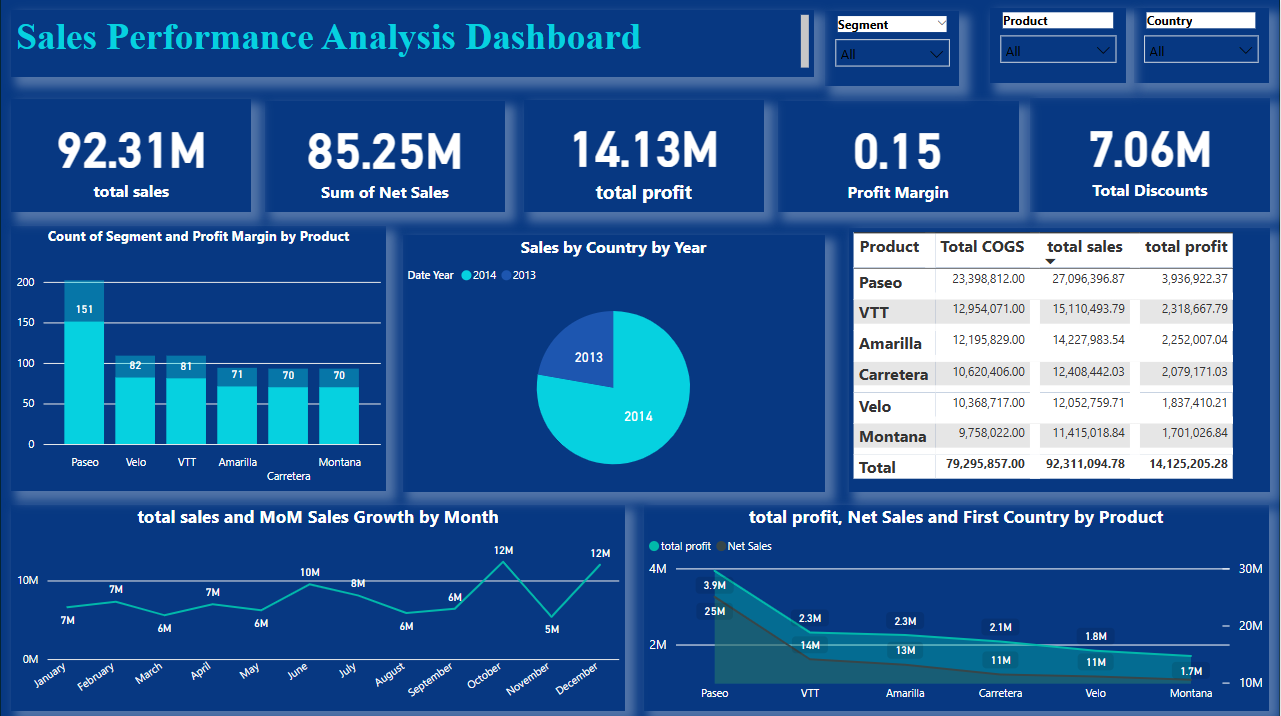

This screenshot's page, from the dashboard's own definition file:
{"tool":"powerbi","page":{"name":"sales performance final output","canvas":[1280,720],"ordinal":0},"visuals":[{"type":"textbox","box":[11.2,10,802.4,67.2],"z":0},{"type":"card","fields":{"Values":["dax Table.total sales"]},"box":[11.2,98.5,240.1,113.2],"z":1},{"type":"card","fields":{"Values":["Sum(Sales performance.Net Sales)"]},"box":[265,101,240.1,110.7],"z":2},{"type":"card","fields":{"Values":["dax Table.total profit"]},"box":[523.7,99.8,240.1,112],"z":3},{"type":"card","fields":{"Values":["dax Table.Profit Margin"]},"box":[777.5,101,241.3,110.7],"z":4},{"type":"card","fields":{"Values":["dax Table.Total Discounts"]},"box":[1030,97.3,240.1,114.4],"z":5},{"type":"slicer","fields":{"Values":["Sales performance.Country"]},"box":[1133.7,7.4,135,74.8],"z":6},{"type":"slicer","fields":{"Values":["Sales performance.Segment"]},"box":[824.7,11,134.5,75.5],"z":7},{"type":"pivotTable","fields":{"Rows":["Sales performance.Product"],"Values":["dax Table.Total COGS","dax Table.total sales","dax Table.total profit"]},"box":[848.4,227.6,420.5,265],"z":9},{"type":"lineChart","fields":{"Category":["Sales performance.Date.Variation.Date Hierarchy.Year","Sales performance.Date.Variation.Date Hierarchy.Quarter","Sales performance.Date.Variation.Date Hierarchy.Month","Sales performance.Date.Variation.Date Hierarchy.Day"],"Y":["dax Table.total sales"]},"box":[11.2,505,613.3,205.3],"z":10},{"type":"lineChart","fields":{"Category":["Sales performance.Product"],"Y":["dax Table.total profit"],"Y2":["dax Table.Net Sales"]},"box":[644.4,505,624.5,205.3],"z":11},{"type":"clusteredColumnChart","fields":{"Category":["Sales performance.Product"],"Y":["CountNonNull(Sales performance.Segment)"]},"box":[11.2,226.4,374.4,265],"z":12},{"type":"pieChart","fields":{"Y":["dax Table.Sales by Country"],"Category":["Sales performance.Date.Variation.Date Hierarchy.Year","Sales performance.Date.Variation.Date Hierarchy.Quarter","Sales performance.Date.Variation.Date Hierarchy.Month","Sales performance.Date.Variation.Date Hierarchy.Day"]},"box":[402.5,235.6,422.1,256.4],"z":13},{"type":"slicer","fields":{"Values":["Sales performance.Product"]},"box":[990.2,7.4,136.2,76.1],"z":14}]}

Visuals, with their boxes in screenshot pixels (x1, y1, x2, y2), scaled from the page's 1280x720 canvas onto the 1281x716 screenshot:
textbox: [x1=11, y1=10, x2=814, y2=77]
card - dax Table.total sales: [x1=11, y1=98, x2=251, y2=211]
card - Sum(Sales performance.Net Sales): [x1=265, y1=100, x2=505, y2=211]
card - dax Table.total profit: [x1=524, y1=99, x2=764, y2=211]
card - dax Table.Profit Margin: [x1=778, y1=100, x2=1020, y2=211]
card - dax Table.Total Discounts: [x1=1031, y1=97, x2=1271, y2=211]
slicer - Sales performance.Country: [x1=1135, y1=7, x2=1270, y2=82]
slicer - Sales performance.Segment: [x1=825, y1=11, x2=960, y2=86]
pivotTable - Sales performance.Product x dax Table.Total COGS: [x1=849, y1=226, x2=1270, y2=490]
lineChart - Sales performance.Date.Variation.Date Hierarchy.Year x Sales performance.Date.Variation.Date Hierarchy.Quarter: [x1=11, y1=502, x2=625, y2=706]
lineChart - Sales performance.Product x dax Table.total profit: [x1=645, y1=502, x2=1270, y2=706]
clusteredColumnChart - Sales performance.Product x CountNonNull(Sales performance.Segment): [x1=11, y1=225, x2=386, y2=489]
pieChart - dax Table.Sales by Country x Sales performance.Date.Variation.Date Hierarchy.Year: [x1=403, y1=234, x2=825, y2=489]
slicer - Sales performance.Product: [x1=991, y1=7, x2=1127, y2=83]
